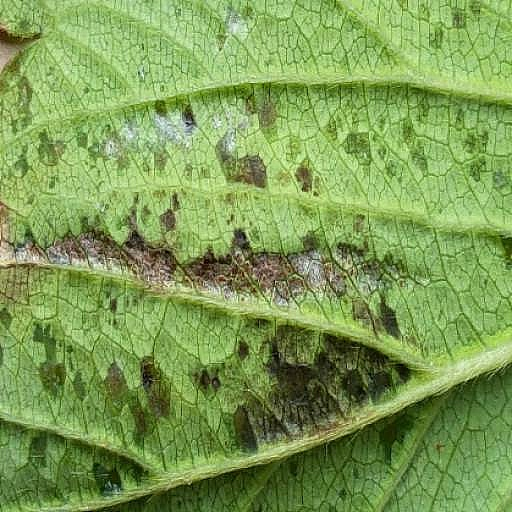Angular Leafspot: (0, 0, 511, 511)
